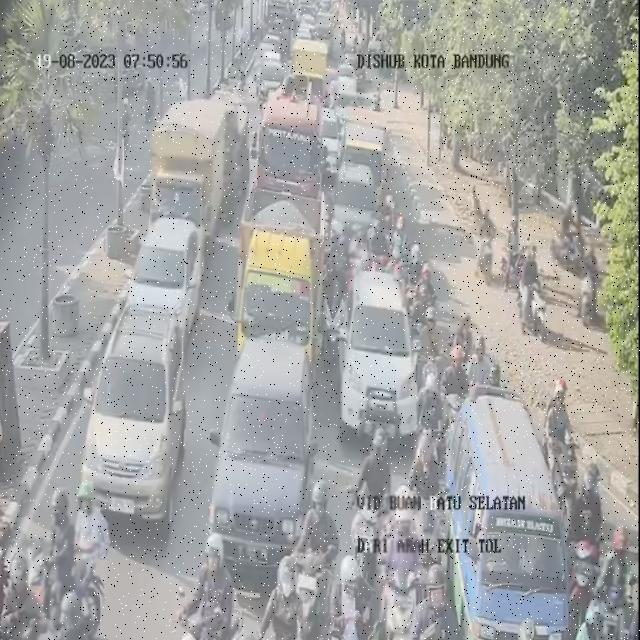cars: (436, 382, 564, 640), (212, 327, 318, 572), (74, 293, 182, 526), (234, 213, 320, 394), (340, 266, 416, 440), (131, 220, 204, 332), (332, 162, 377, 267), (312, 107, 339, 173), (256, 59, 288, 107), (334, 77, 356, 114), (254, 43, 274, 79)
motorcycle: (17, 471, 100, 640), (352, 422, 398, 590), (303, 476, 345, 638), (180, 524, 234, 638), (379, 498, 421, 638), (567, 460, 603, 606), (541, 375, 579, 503), (258, 554, 306, 640), (332, 536, 370, 640), (599, 520, 629, 638), (408, 570, 454, 640), (517, 246, 549, 336), (573, 239, 606, 326), (442, 335, 470, 434), (550, 195, 585, 271), (474, 202, 500, 291), (503, 209, 526, 298), (451, 313, 475, 380), (417, 261, 439, 334), (369, 212, 392, 278), (402, 236, 425, 300), (376, 190, 400, 247), (347, 222, 367, 281), (472, 332, 491, 392)
truck: (150, 94, 249, 260), (249, 96, 322, 222), (342, 107, 388, 184), (291, 36, 331, 76)
